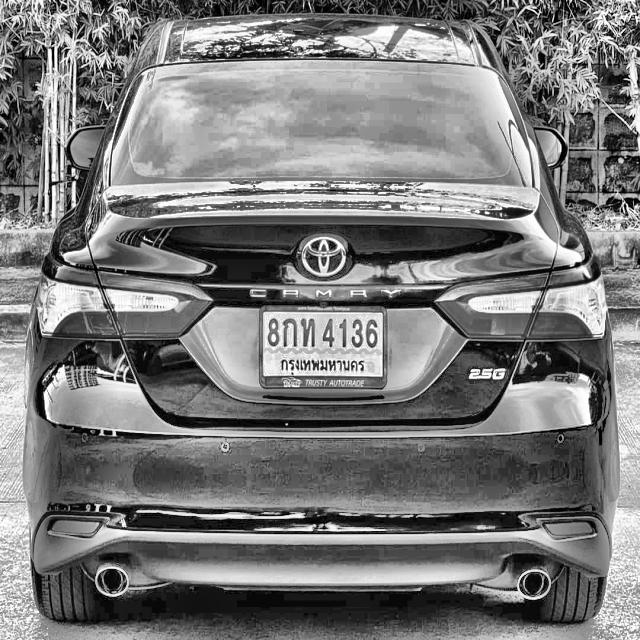license-plate: (258, 306, 388, 392)
